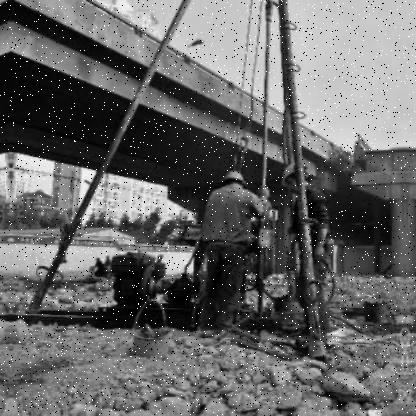Helmet: (274, 164, 312, 198), (218, 168, 249, 192)
